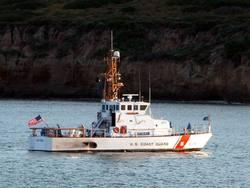otherboat: (23, 30, 217, 154)
